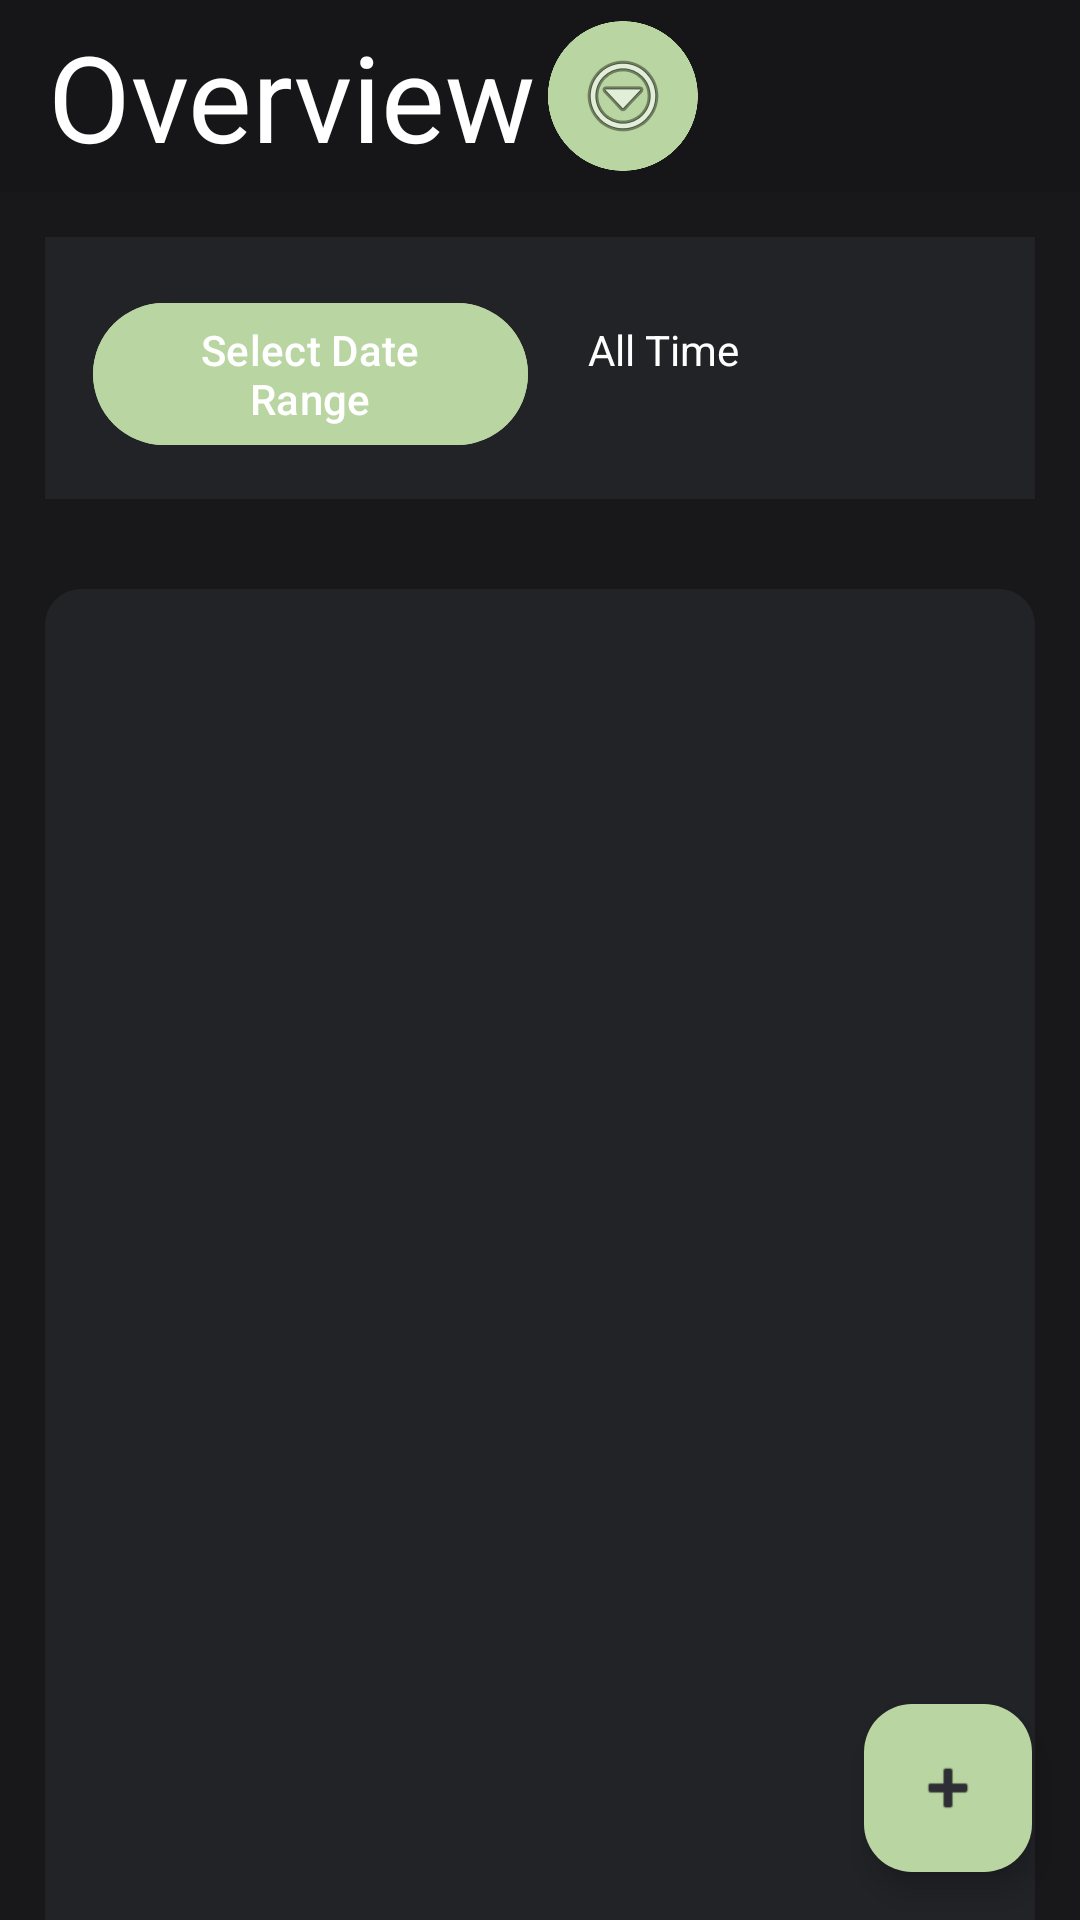

Named icons in this screenshot (1080 × 1920) and their centers, [x,y]:
Add Transaction: [948,1788]
